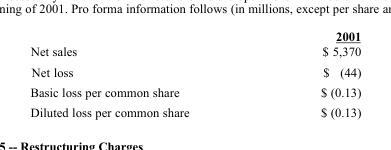table: (29, 28, 360, 118)
table column: (29, 28, 254, 118), (254, 28, 360, 118)
table column header: (29, 28, 360, 43)
table row: (29, 61, 360, 81), (29, 81, 360, 101), (29, 43, 360, 61), (29, 101, 360, 118), (29, 28, 360, 43)
